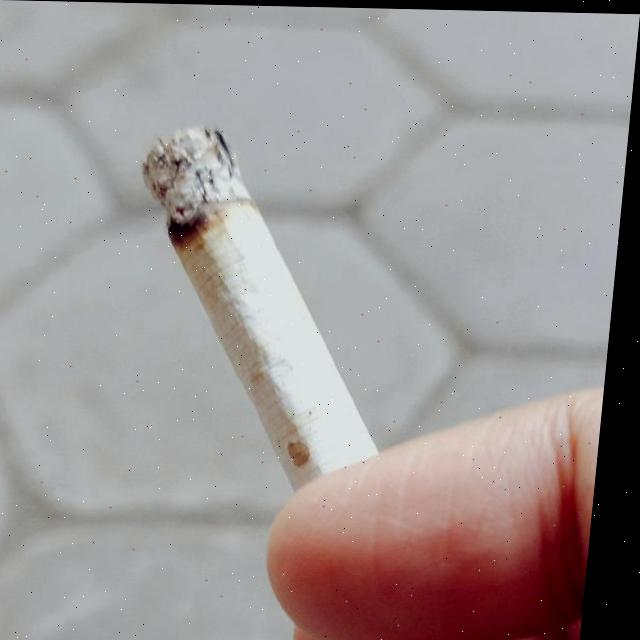cigarette: (116, 123, 410, 489)
